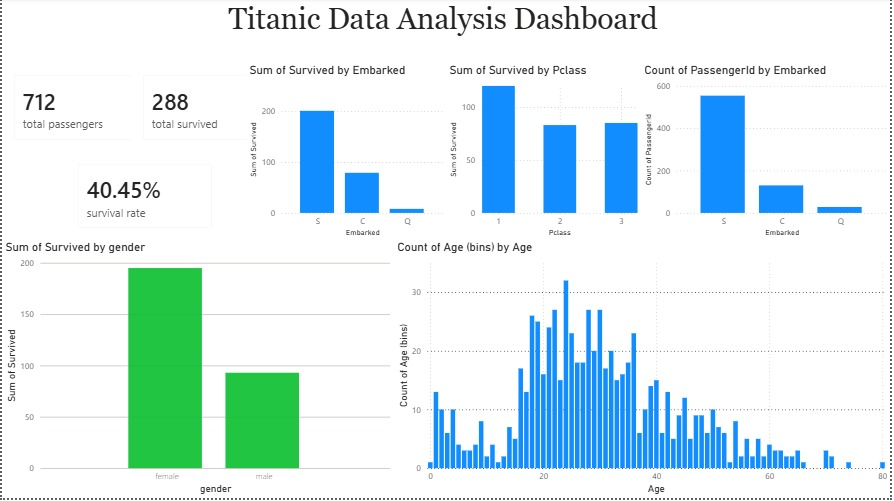

This screenshot's page, from the dashboard's own definition file:
{"tool":"powerbi","page":{"name":"Page 1","canvas":[1280,720],"ordinal":0},"visuals":[{"type":"cardVisual","fields":{"Data":["train.total passengers"]},"box":[0,93.6,205.9,128.2],"z":0},{"type":"cardVisual","fields":{"Data":["Sum(train.Survived)"]},"box":[185.8,93.6,207.4,128.2],"z":1},{"type":"clusteredColumnChart","fields":{"Category":["train.Sex"],"Y":["Sum(train.Survived)"]},"box":[0,348.5,564.5,371.5],"z":2},{"type":"clusteredColumnChart","fields":{"Category":["train.Pclass"],"Y":["Sum(train.Survived)"]},"box":[639.4,93.6,280.8,254.9],"z":3},{"type":"clusteredColumnChart","fields":{"Category":["train.Age"],"Y":["CountNonNull(train.Age (bins))"]},"box":[564.5,348.5,715.7,371.5],"z":4},{"type":"clusteredColumnChart","fields":{"Category":["train.Embarked"],"Y":["Sum(train.Survived)"]},"box":[351.4,93.6,289.4,254.9],"z":6},{"type":"clusteredColumnChart","fields":{"Category":["train.Embarked"],"Y":["CountNonNull(train.PassengerId)"]},"box":[920.2,93.6,360,254.9],"z":7},{"type":"cardVisual","fields":{"Data":["train.survival rate"]},"box":[92.2,221.8,227.5,126.7],"z":8},{"type":"textbox","box":[0,0,1280.2,93.6],"z":9}]}

Visuals, with their boxes in screenshot pixels (x1, y1, x2, y2), scaled from the page's 1280x720 canvas onto the 894x501 screenshot:
cardVisual - train.total passengers: box=[0, 65, 144, 154]
cardVisual - Sum(train.Survived): box=[130, 65, 275, 154]
clusteredColumnChart - train.Sex x Sum(train.Survived): box=[0, 242, 394, 500]
clusteredColumnChart - train.Pclass x Sum(train.Survived): box=[447, 65, 643, 242]
clusteredColumnChart - train.Age x CountNonNull(train.Age (bins)): box=[394, 242, 893, 500]
clusteredColumnChart - train.Embarked x Sum(train.Survived): box=[245, 65, 448, 242]
clusteredColumnChart - train.Embarked x CountNonNull(train.PassengerId): box=[643, 65, 893, 242]
cardVisual - train.survival rate: box=[64, 154, 223, 242]
textbox: box=[0, 0, 893, 65]
